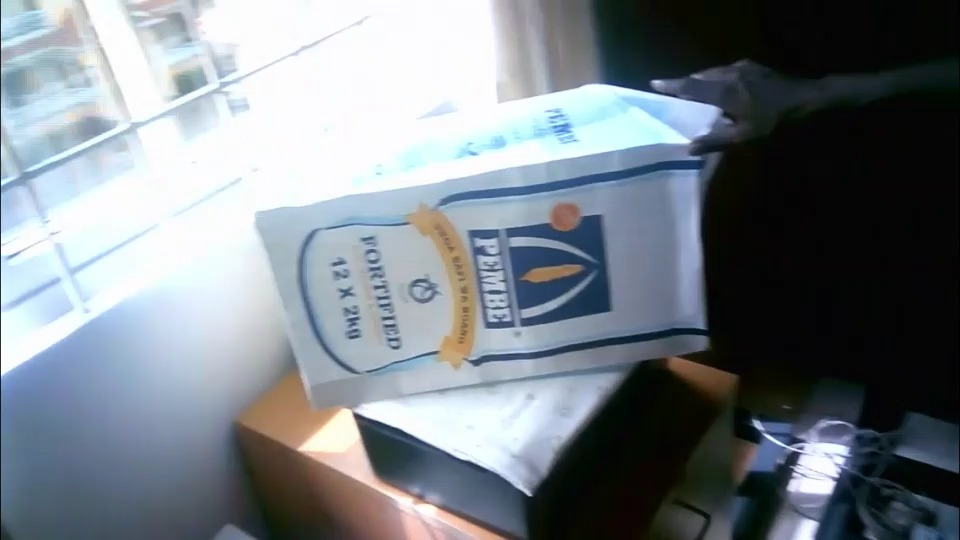wheat_flour_blue_label: (251, 82, 721, 409)
